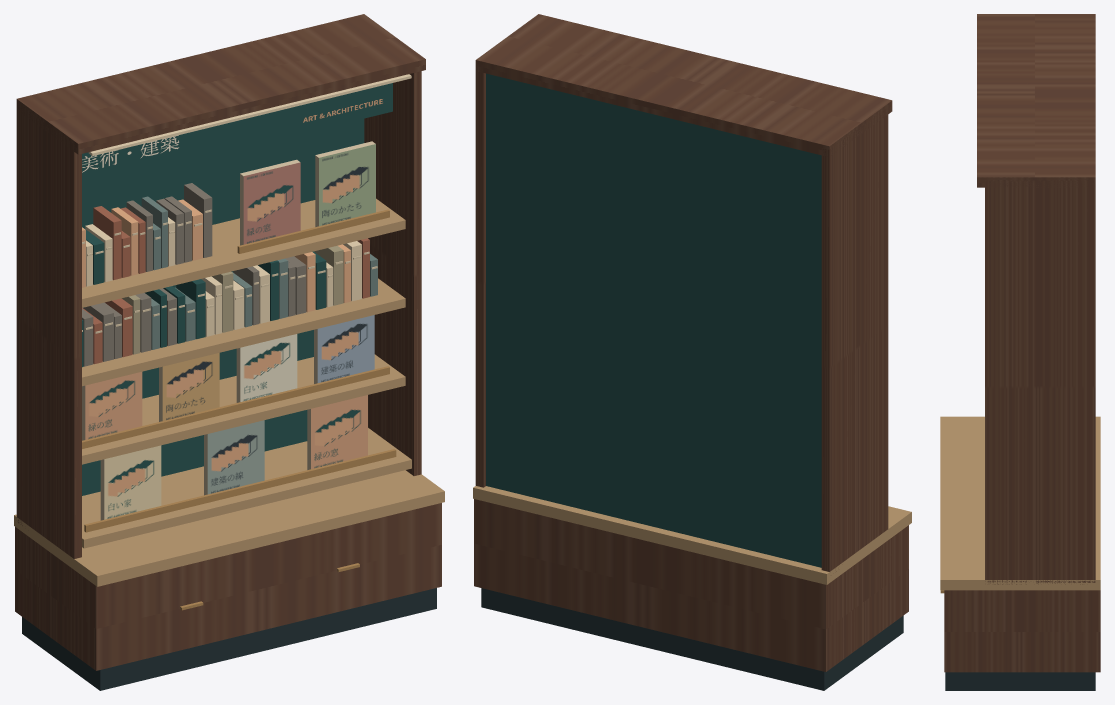
Rendered from orienne_atelier_0.glb.
The picture shows the model from 3 angles, left to right: view 1: azimuth 30°, elevation 25°; view 2: azimuth 150°, elevation 25°; view 3: azimuth 270°, elevation 25°; orthographic projection. The views are drawn at different scales.
Bounding box in the file's own units: 1.95 × 2.88 × 0.81.
Materials: 1 (1 with a texture image).
